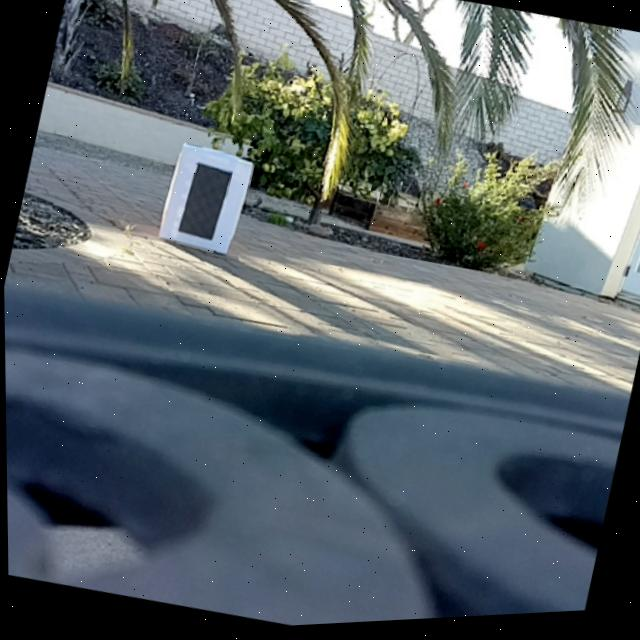led: (179, 162, 230, 248)
